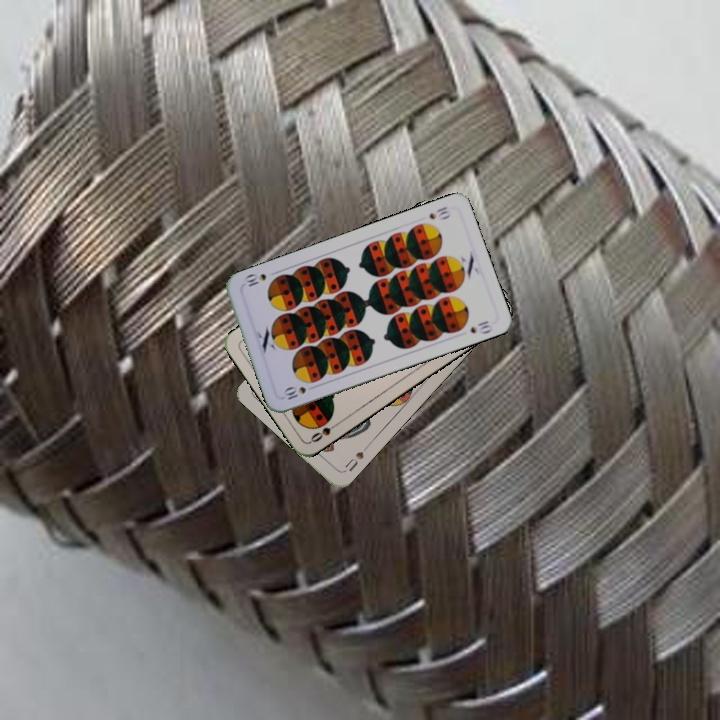S10: (279, 382, 309, 402), (425, 202, 453, 222)
SO: (306, 418, 343, 445)
SU: (339, 442, 371, 475)
